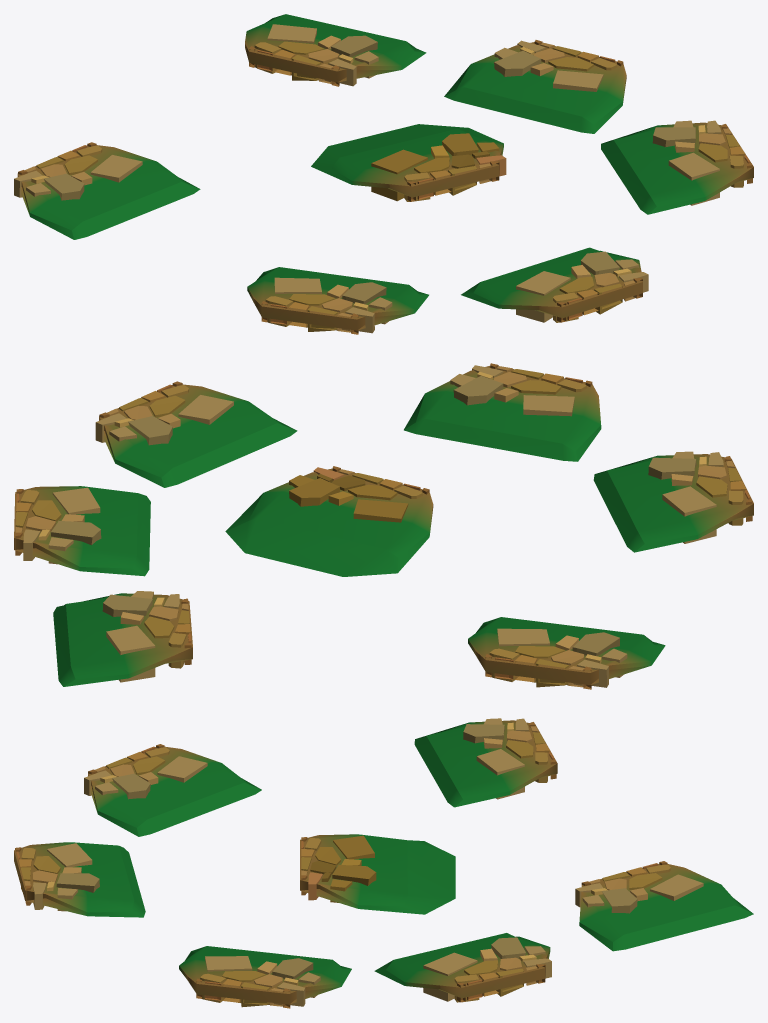
File: ENV_Adventure_TileEndcap_01.fbx
The picture shows the model from 3 angles, top to bottom: view 1: azimuth 30°, elevation 25°; view 2: azimuth 150°, elevation 25°; view 3: azimuth 270°, elevation 25°; orthographic projection. The views are drawn at different scales.
Visible parts, largest first — view 1: ENV_Adventure_Tile_Endcap_0245, ENV_Adventure_Tile_Endcap_0247, ENV_Adventure_Tile_Endcap_01, ENV_Adventure_Tile_Endcap_0244, ENV_Adventure_Tile_Endcap_0242, ENV_Adventure_Tile_Endcap_0246, ENV_Adventure_Tile_Endcap_0243; view 2: ENV_Adventure_Tile_Endcap_01, ENV_Adventure_Tile_Endcap_0242, ENV_Adventure_Tile_Endcap_0244, ENV_Adventure_Tile_Endcap_0243, ENV_Adventure_Tile_Endcap_0246, ENV_Adventure_Tile_Endcap_0245, ENV_Adventure_Tile_Endcap_0247; view 3: ENV_Adventure_Tile_Endcap_01, ENV_Adventure_Tile_Endcap_0246, ENV_Adventure_Tile_Endcap_0243, ENV_Adventure_Tile_Endcap_0247, ENV_Adventure_Tile_Endcap_0242, ENV_Adventure_Tile_Endcap_0245, ENV_Adventure_Tile_Endcap_0244.
Boxes of the visible parts, x1,y1,x2,y2 form: ENV_Adventure_Tile_Endcap_0245: (444,40,626,133); ENV_Adventure_Tile_Endcap_0247: (14,142,200,239); ENV_Adventure_Tile_Endcap_01: (311,124,506,201); ENV_Adventure_Tile_Endcap_0244: (601,120,753,214); ENV_Adventure_Tile_Endcap_0242: (461,247,648,322); ENV_Adventure_Tile_Endcap_0246: (245,14,426,86); ENV_Adventure_Tile_Endcap_0243: (247,267,428,334); ENV_Adventure_Tile_Endcap_01: (225,466,433,576); ENV_Adventure_Tile_Endcap_0242: (404,363,601,461); ENV_Adventure_Tile_Endcap_0244: (95,381,297,487); ENV_Adventure_Tile_Endcap_0243: (593,451,753,552); ENV_Adventure_Tile_Endcap_0246: (53,591,192,686); ENV_Adventure_Tile_Endcap_0245: (14,486,150,576); ENV_Adventure_Tile_Endcap_0247: (468,617,665,689); ENV_Adventure_Tile_Endcap_01: (300,834,455,914); ENV_Adventure_Tile_Endcap_0246: (575,861,753,951); ENV_Adventure_Tile_Endcap_0243: (84,744,261,836); ENV_Adventure_Tile_Endcap_0247: (414,718,557,807); ENV_Adventure_Tile_Endcap_0242: (14,842,145,917); ENV_Adventure_Tile_Endcap_0245: (374,933,551,1002); ENV_Adventure_Tile_Endcap_0244: (179,946,351,1008).
Size of the model in its own units: 2732 by 186 by 3048.
